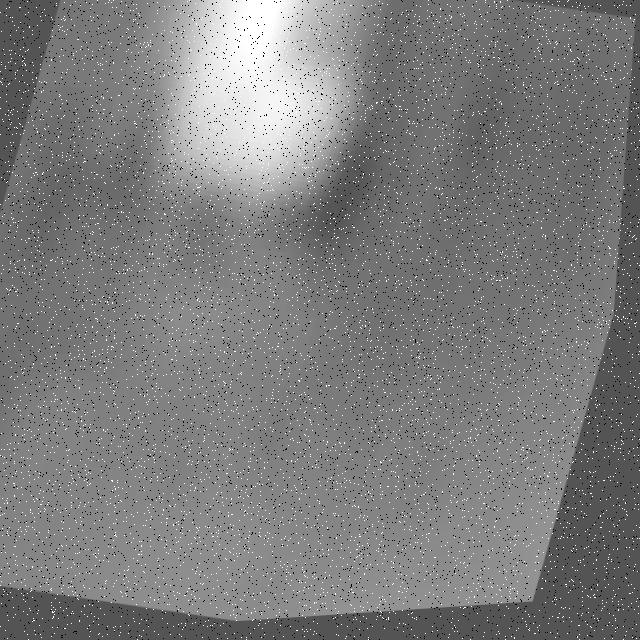person: (101, 1, 395, 332)
